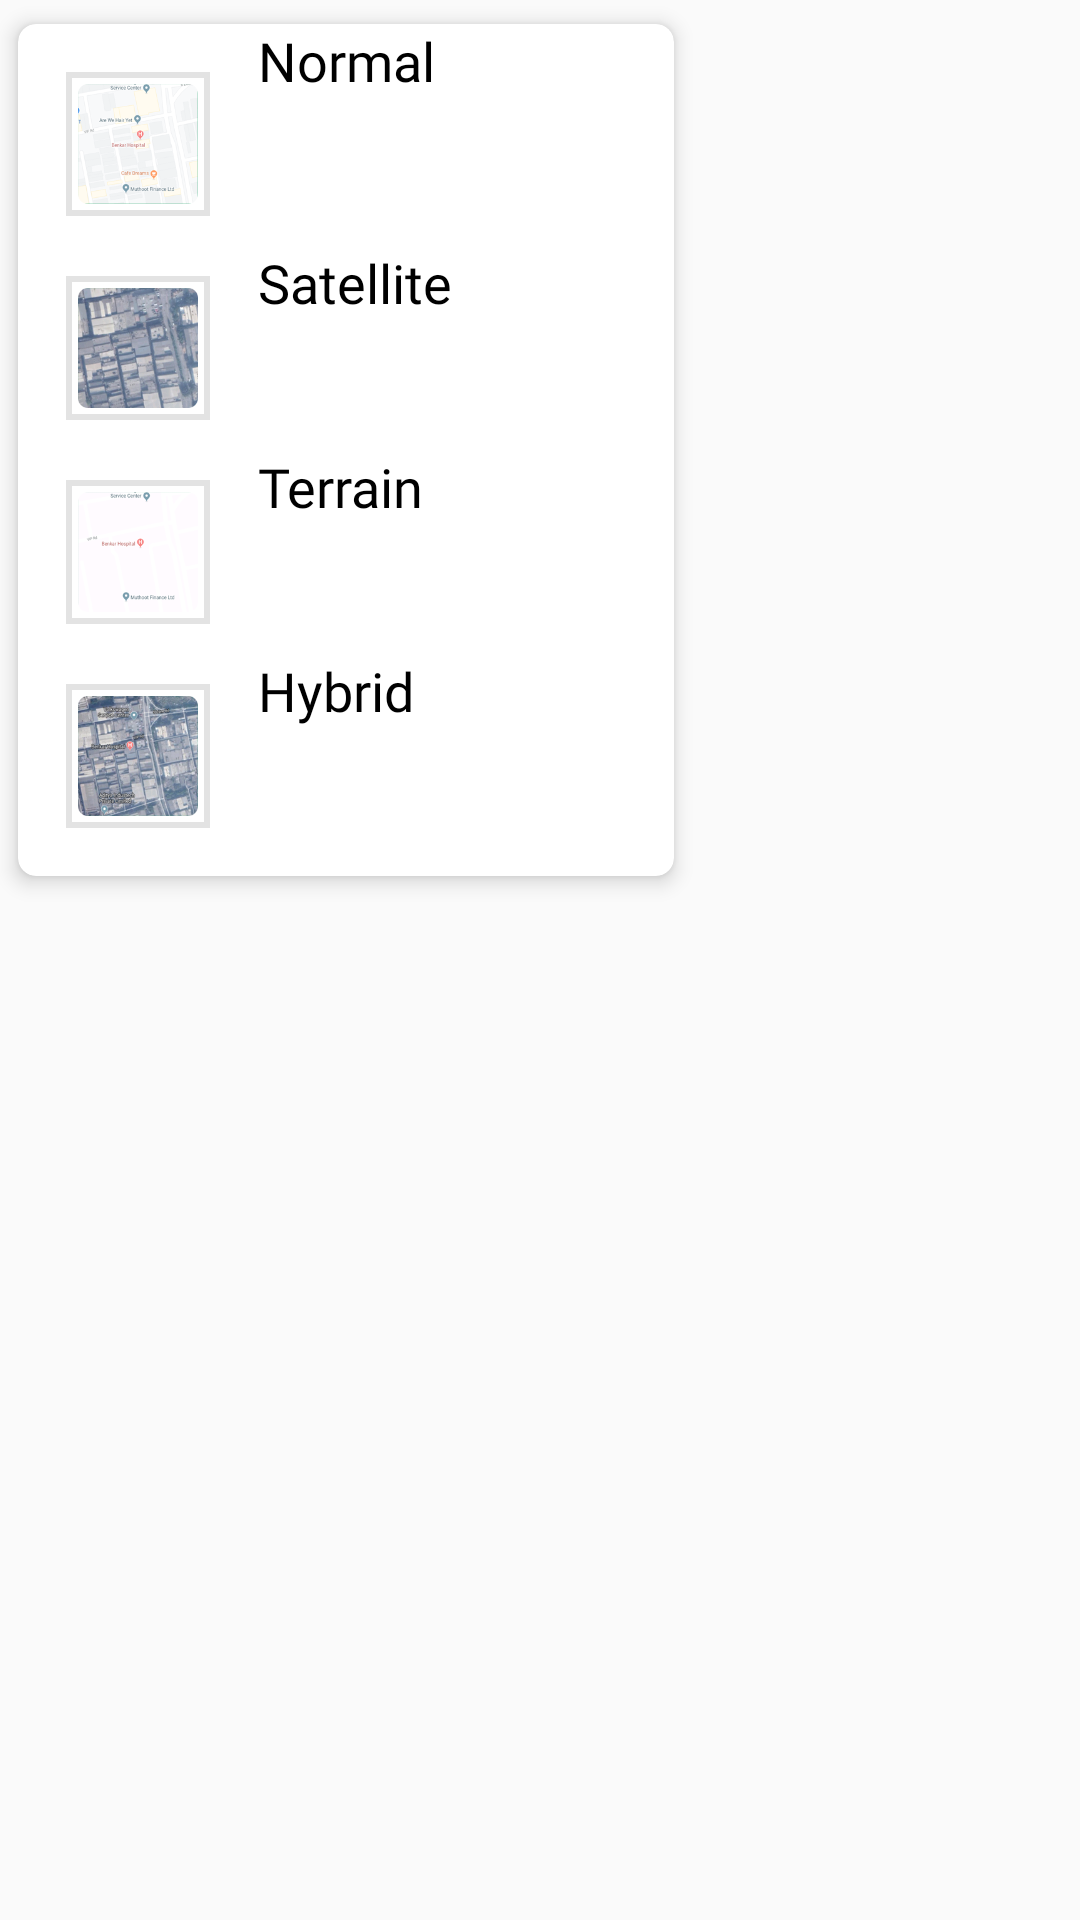

Icons on this 1080x1920 Android screen, each with its box as (x1, y1, x2, y2):
setellite: (66, 276, 210, 420)
tarrain: (66, 480, 210, 624)
